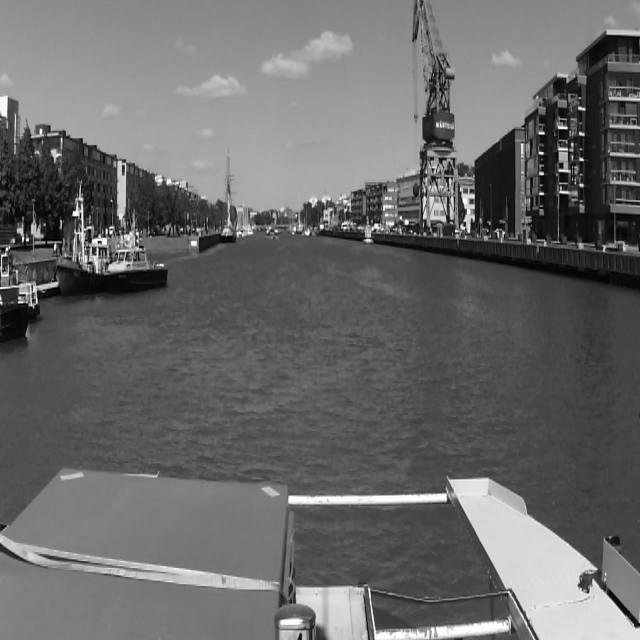ship: (51, 183, 115, 296), (88, 226, 171, 298), (219, 151, 237, 249), (362, 214, 374, 248)
